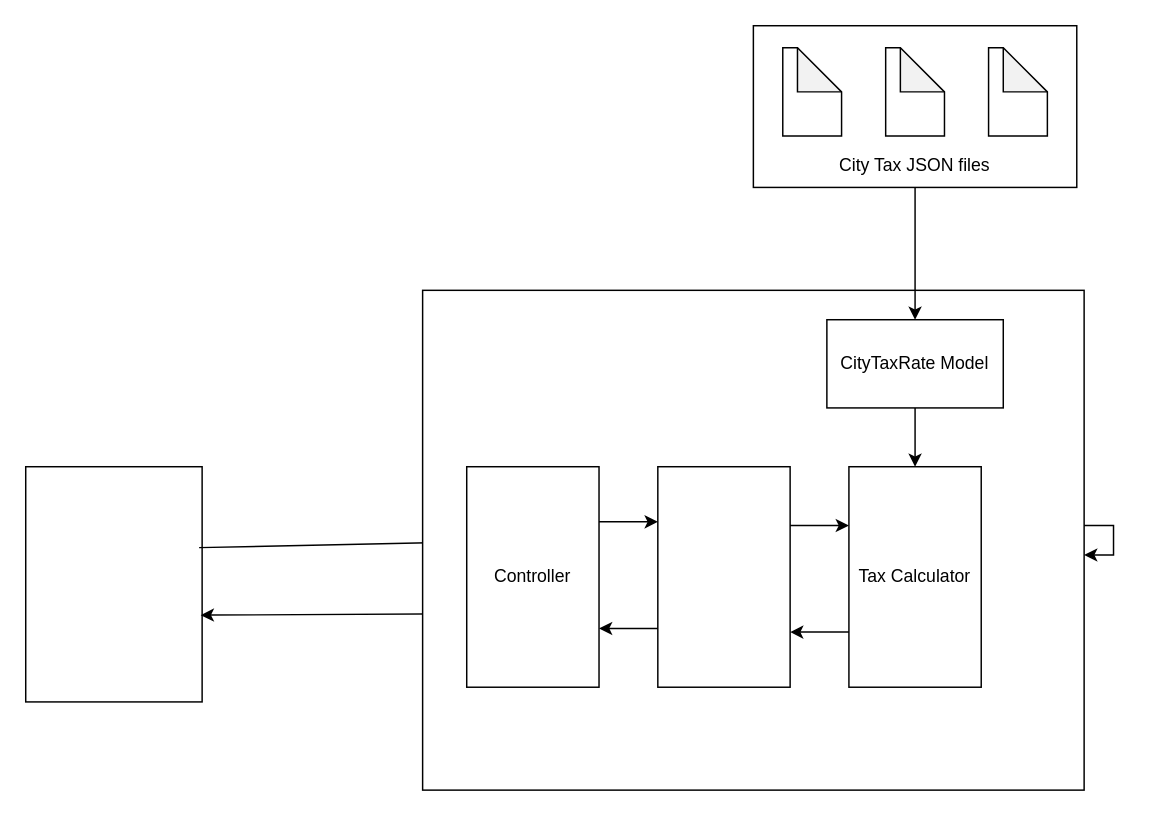
Image size: 1151x816. Some labels were removed from this diagram. Here are the shapes that lost their labels. From the top down, the box of each, then its label:
(24, 465, 202, 702): Client
(656, 465, 790, 687): Service
